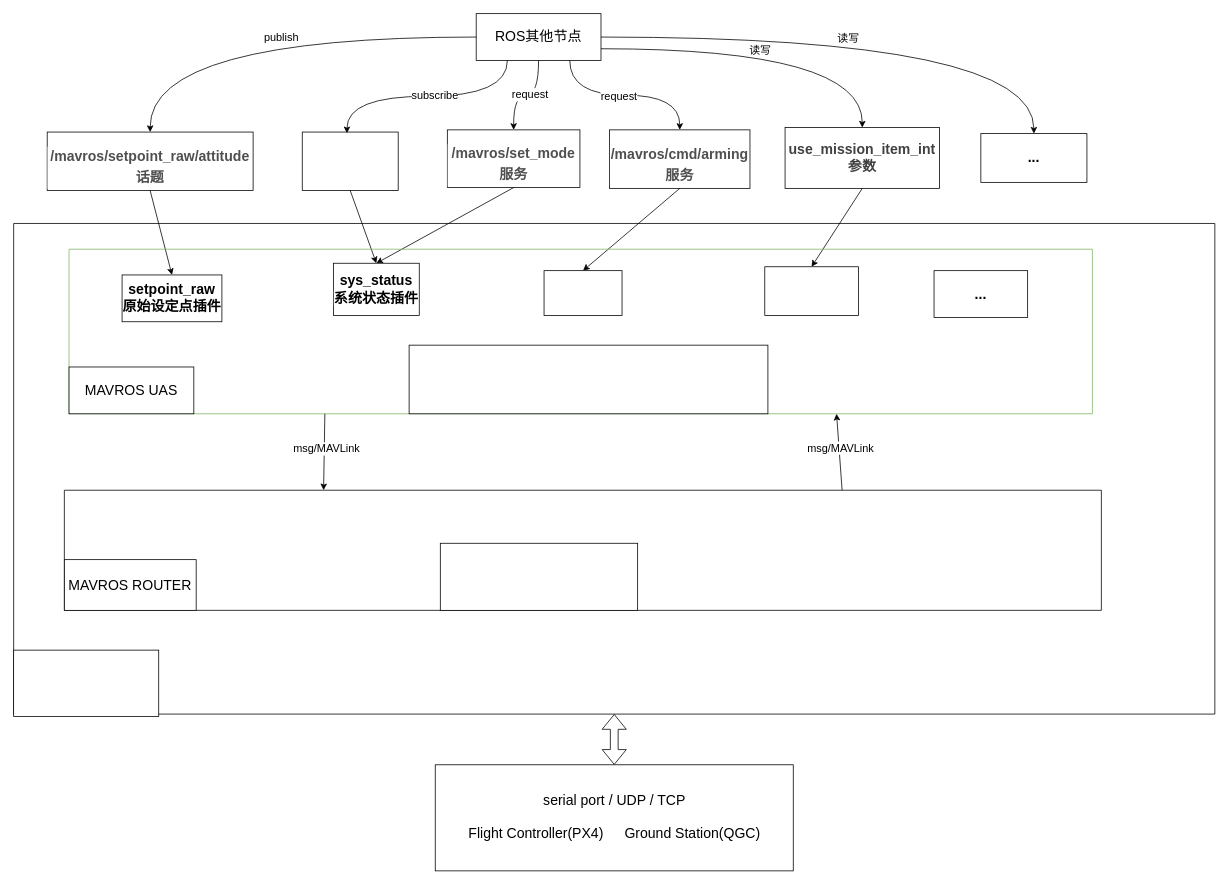
Some shapes in this 1229 by 885 pixel diagram are drawn without their labels. The centre of each missing label's shape, as x and y in pixels:
"/mavros/state话题" belongs at point (349, 161).
"command命令插件" belongs at point (582, 293).
"MAVROS_NODE" belongs at point (86, 682).
"waypoint 航点任务插件" belongs at point (811, 291).
"消息转换：MAVLink消息 <-> ROS消息 通过各种插件提供ROS接口，即话题、服务、参数" belongs at point (588, 379).
"管理物理连接 路由MAVLink消息" belongs at point (539, 576).
